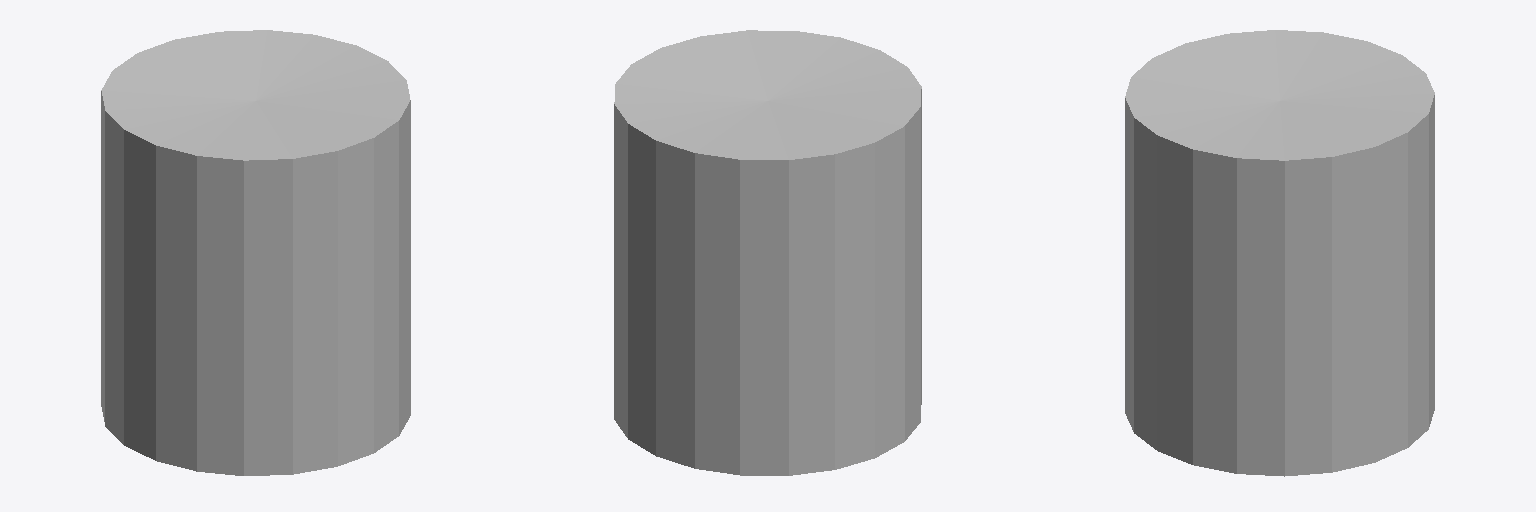
File: canned_food_7.obj
3 views of the same model, side by side, from view 1: azimuth 30°, elevation 25°; view 2: azimuth 150°, elevation 25°; view 3: azimuth 270°, elevation 25° (orthographic).
Visible parts, largest first — view 1: pasted__pasted__pasted__pasted__pCylinder1 pasted__pasted__paste; view 2: pasted__pasted__pasted__pasted__pCylinder1 pasted__pasted__paste; view 3: pasted__pasted__pasted__pasted__pCylinder1 pasted__pasted__paste.
Boxes of the visible parts, x1=… form: pasted__pasted__pasted__pasted__pCylinder1 pasted__pasted__paste: x1=101, y1=30, x2=410, y2=475; pasted__pasted__pasted__pasted__pCylinder1 pasted__pasted__paste: x1=614, y1=30, x2=921, y2=475; pasted__pasted__pasted__pasted__pCylinder1 pasted__pasted__paste: x1=1125, y1=30, x2=1434, y2=476.
Size of the model in its own units: 0.7555 by 0.8643 by 0.7555.